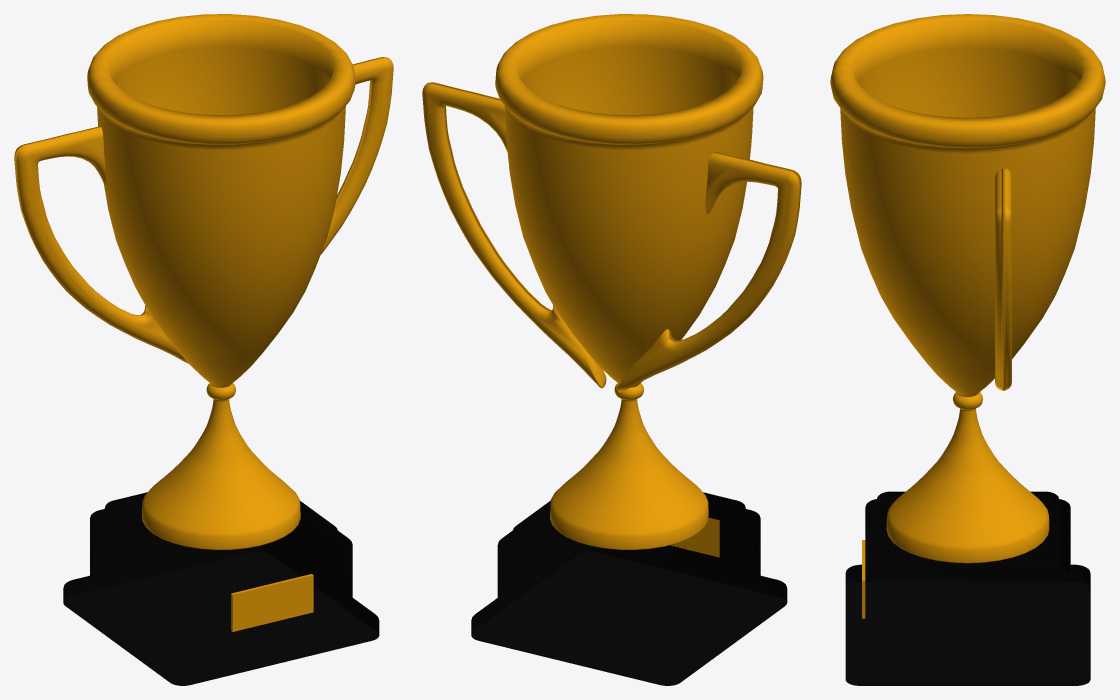
The model's file is trophy.glb.
3 views of the same model, side by side, from view 1: azimuth 30°, elevation 25°; view 2: azimuth 150°, elevation 25°; view 3: azimuth 270°, elevation 25° (orthographic). The views are drawn at different scales.
Visible parts, largest first — view 1: Circle; view 2: Circle; view 3: Circle.
Part boxes in pixels (box(x1,y1,x2,y2)): Circle: box(14, 14, 393, 685); Circle: box(422, 14, 801, 685); Circle: box(830, 14, 1105, 685).
Bounding box in the file's own units: 1.45 × 2.03 × 0.8959.
